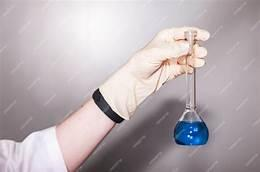Volumetric flask: (165, 25, 210, 149)
